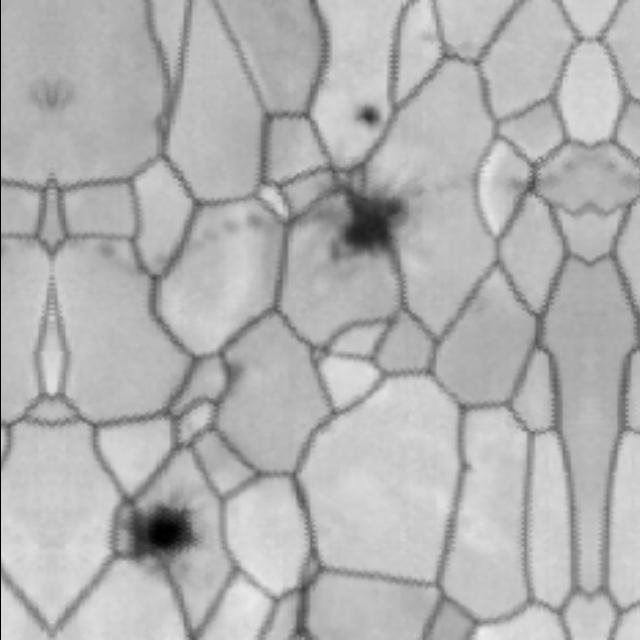good_void: (294, 175, 415, 262), (119, 497, 205, 563), (202, 338, 263, 405), (508, 151, 552, 204), (89, 236, 126, 268), (52, 71, 80, 112), (24, 71, 52, 112), (449, 448, 484, 480), (355, 101, 384, 131), (628, 153, 640, 202), (0, 236, 14, 265)
